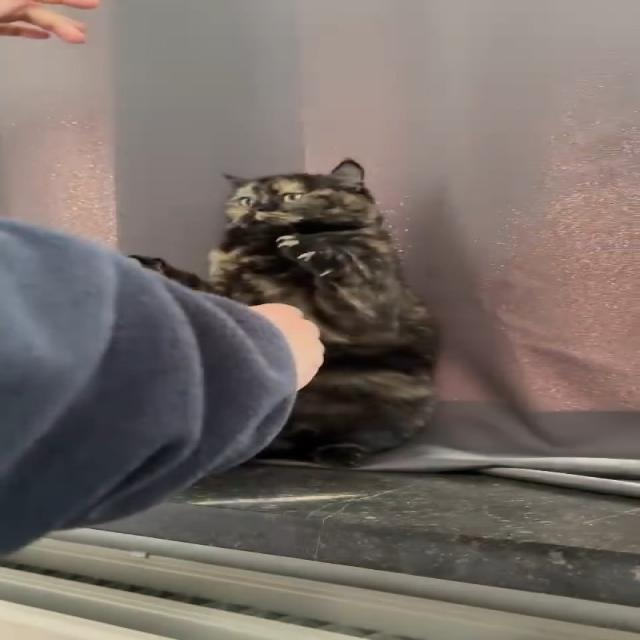authorized: (125, 158, 440, 466)
